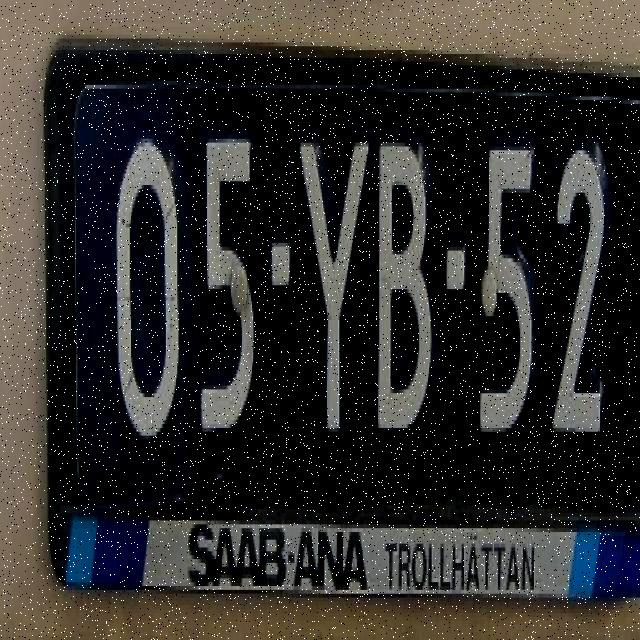licenseplate: (12, 4, 639, 640)
